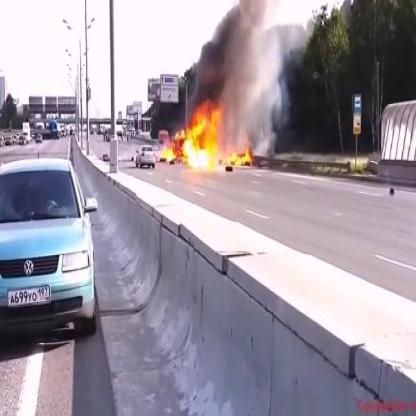fire: (160, 104, 257, 173)
